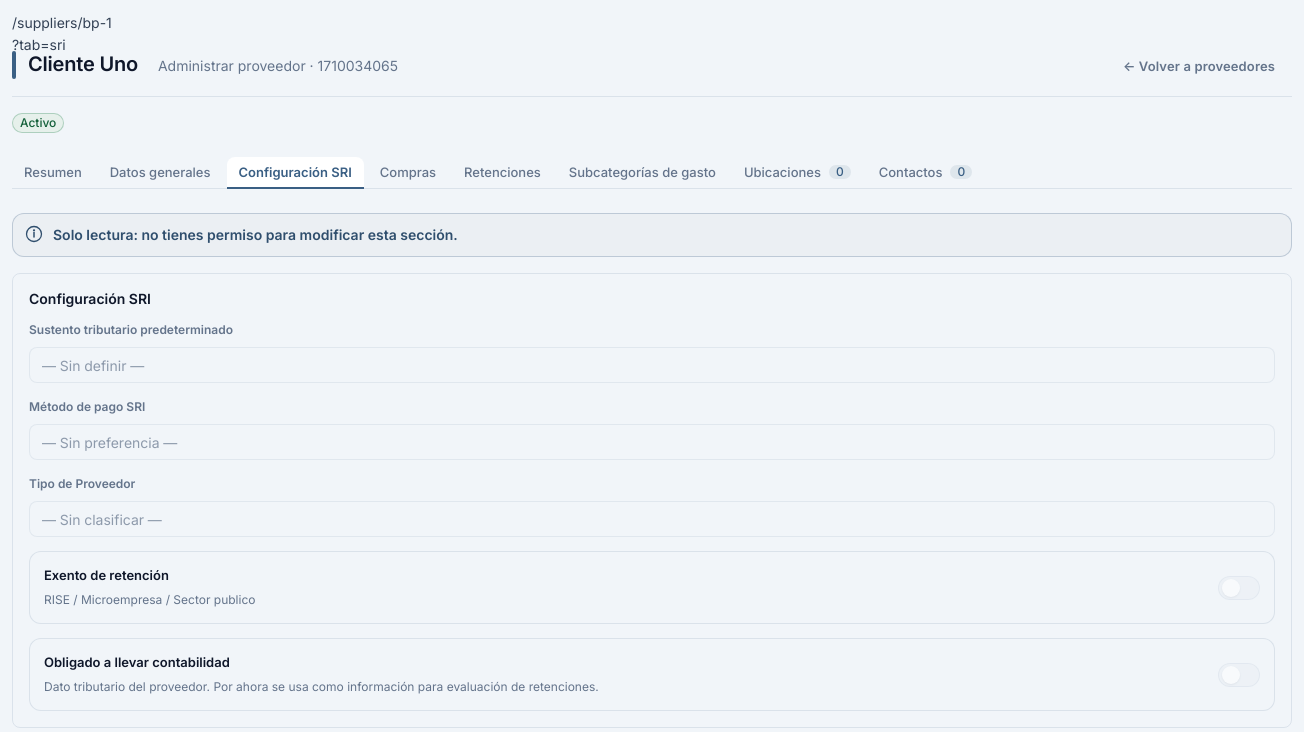
Test case: ficha de proveedor — pestañas de configuración › con configure-company pero sin update: SRI en solo lectura; compras editable
Expected: the button "Guardar" is not shown
Expected: the dropdown labelled "Tipo de Proveedor" is disabled, [29,501,1275,537]
Click the tab "Compras" at (408, 173), box [368,157,448,189]
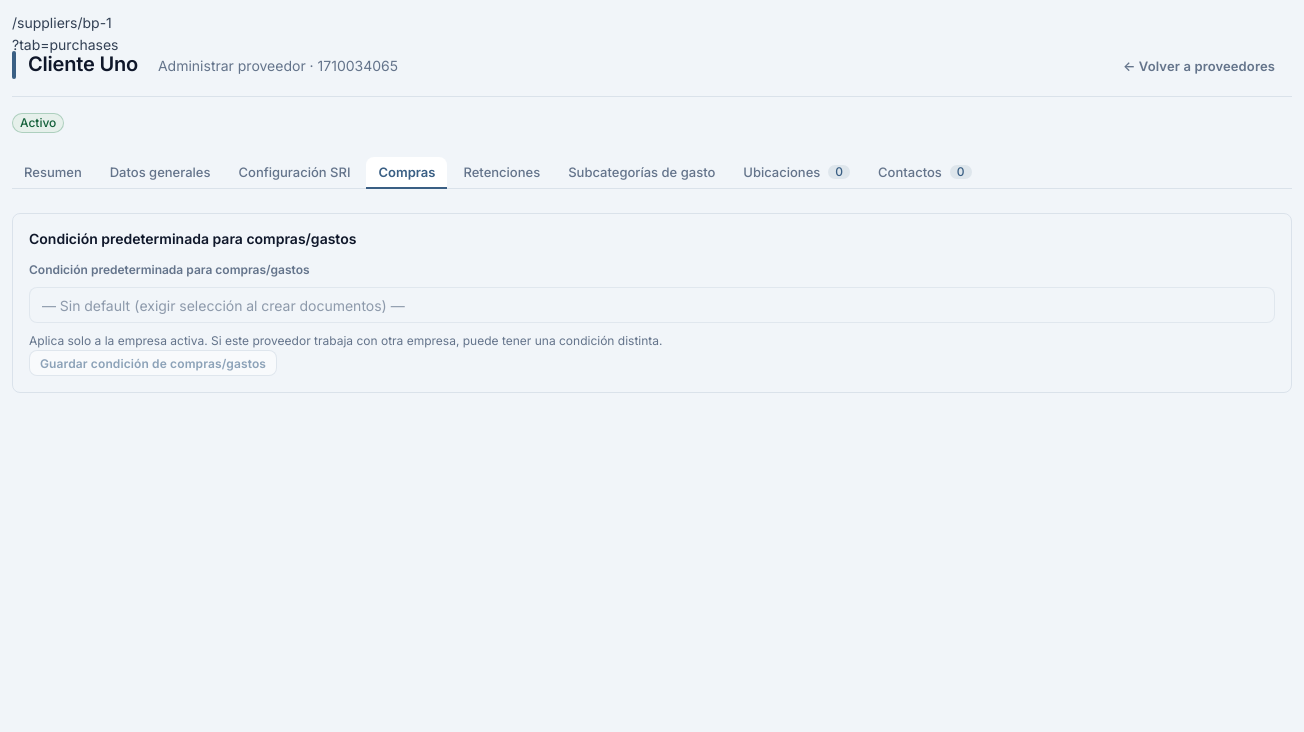
Expected: the button "Guardar condición de compras/gastos" is shown, [29,350,277,376]
Click the tab "Retenciones" at (502, 173), box [452,157,552,189]
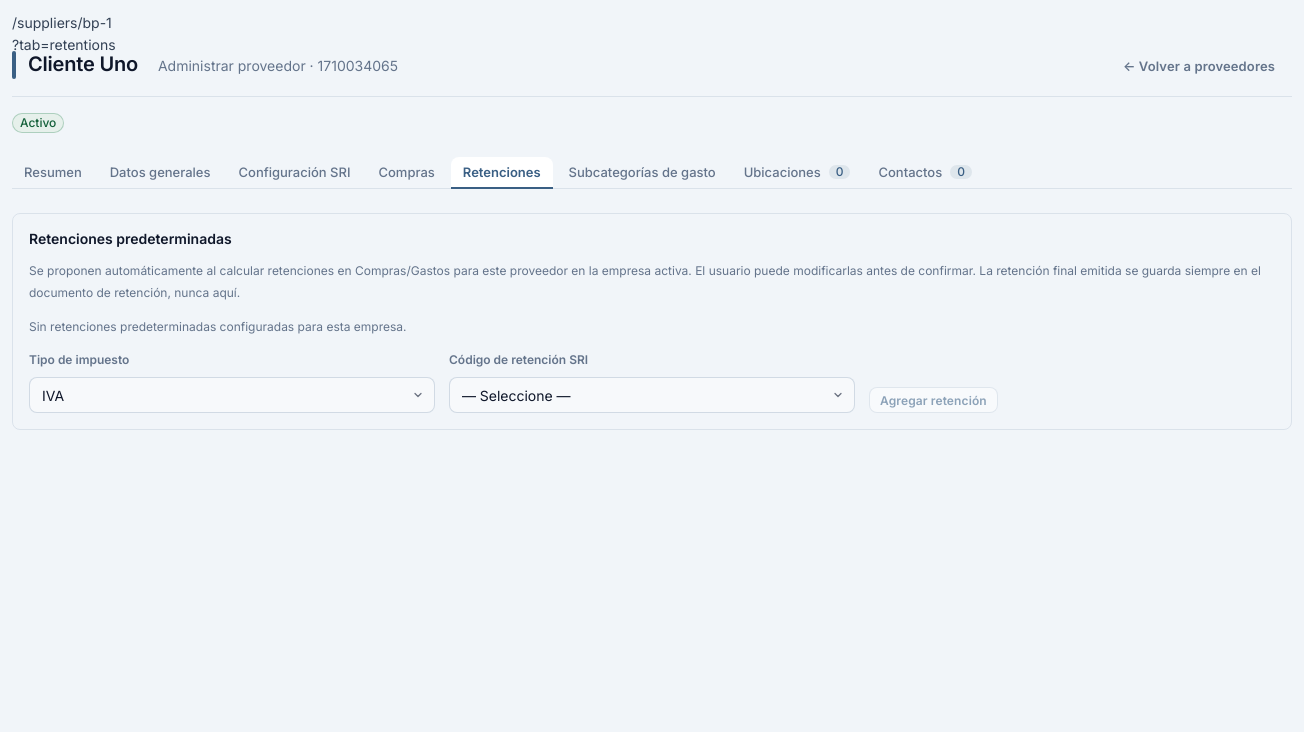
Expected: the button "Agregar retención" is shown, [869,387,998,413]
